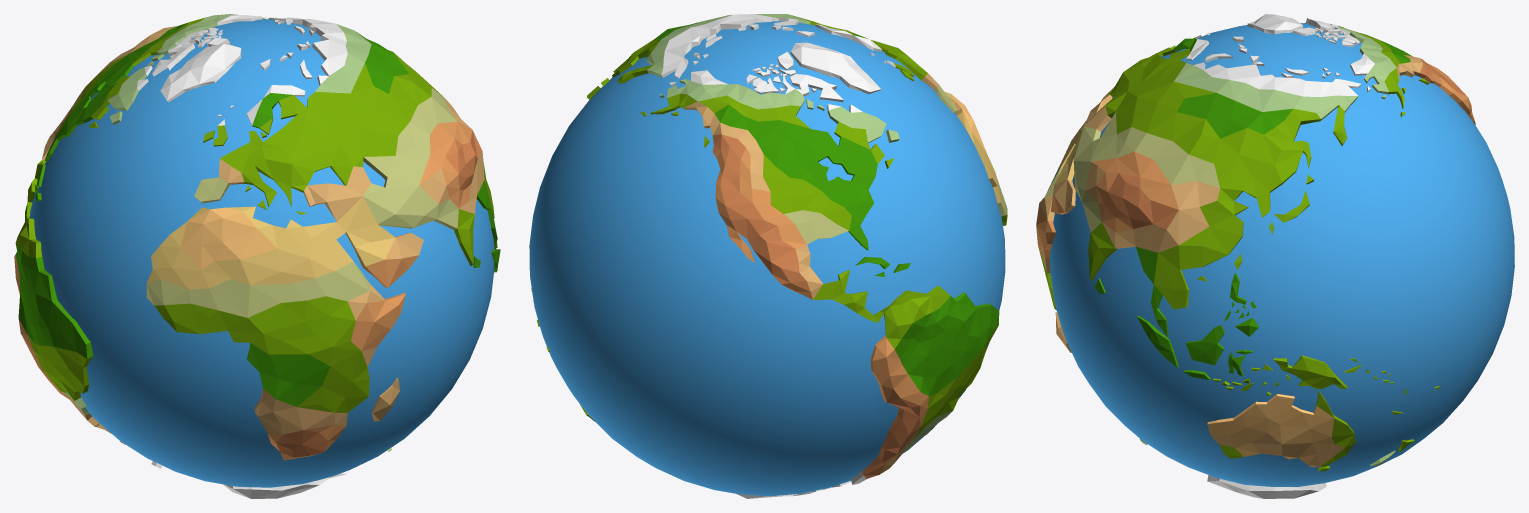
File: low-poly-planet-earth-e54e8607.glb
The picture shows the model from 3 angles, left to right: view 1: azimuth 30°, elevation 25°; view 2: azimuth 150°, elevation 25°; view 3: azimuth 270°, elevation 25°; orthographic projection. The views are drawn at different scales.
Parts seen in each view (by area): view 1: PlanetEarth; view 2: PlanetEarth; view 3: PlanetEarth.
Boxes of the visible parts, <box> form: PlanetEarth: <box>14,14,500,498</box>; PlanetEarth: <box>529,14,1007,498</box>; PlanetEarth: <box>1036,14,1514,498</box>.
Bounding box in the file's own units: 174 × 177 × 174.
